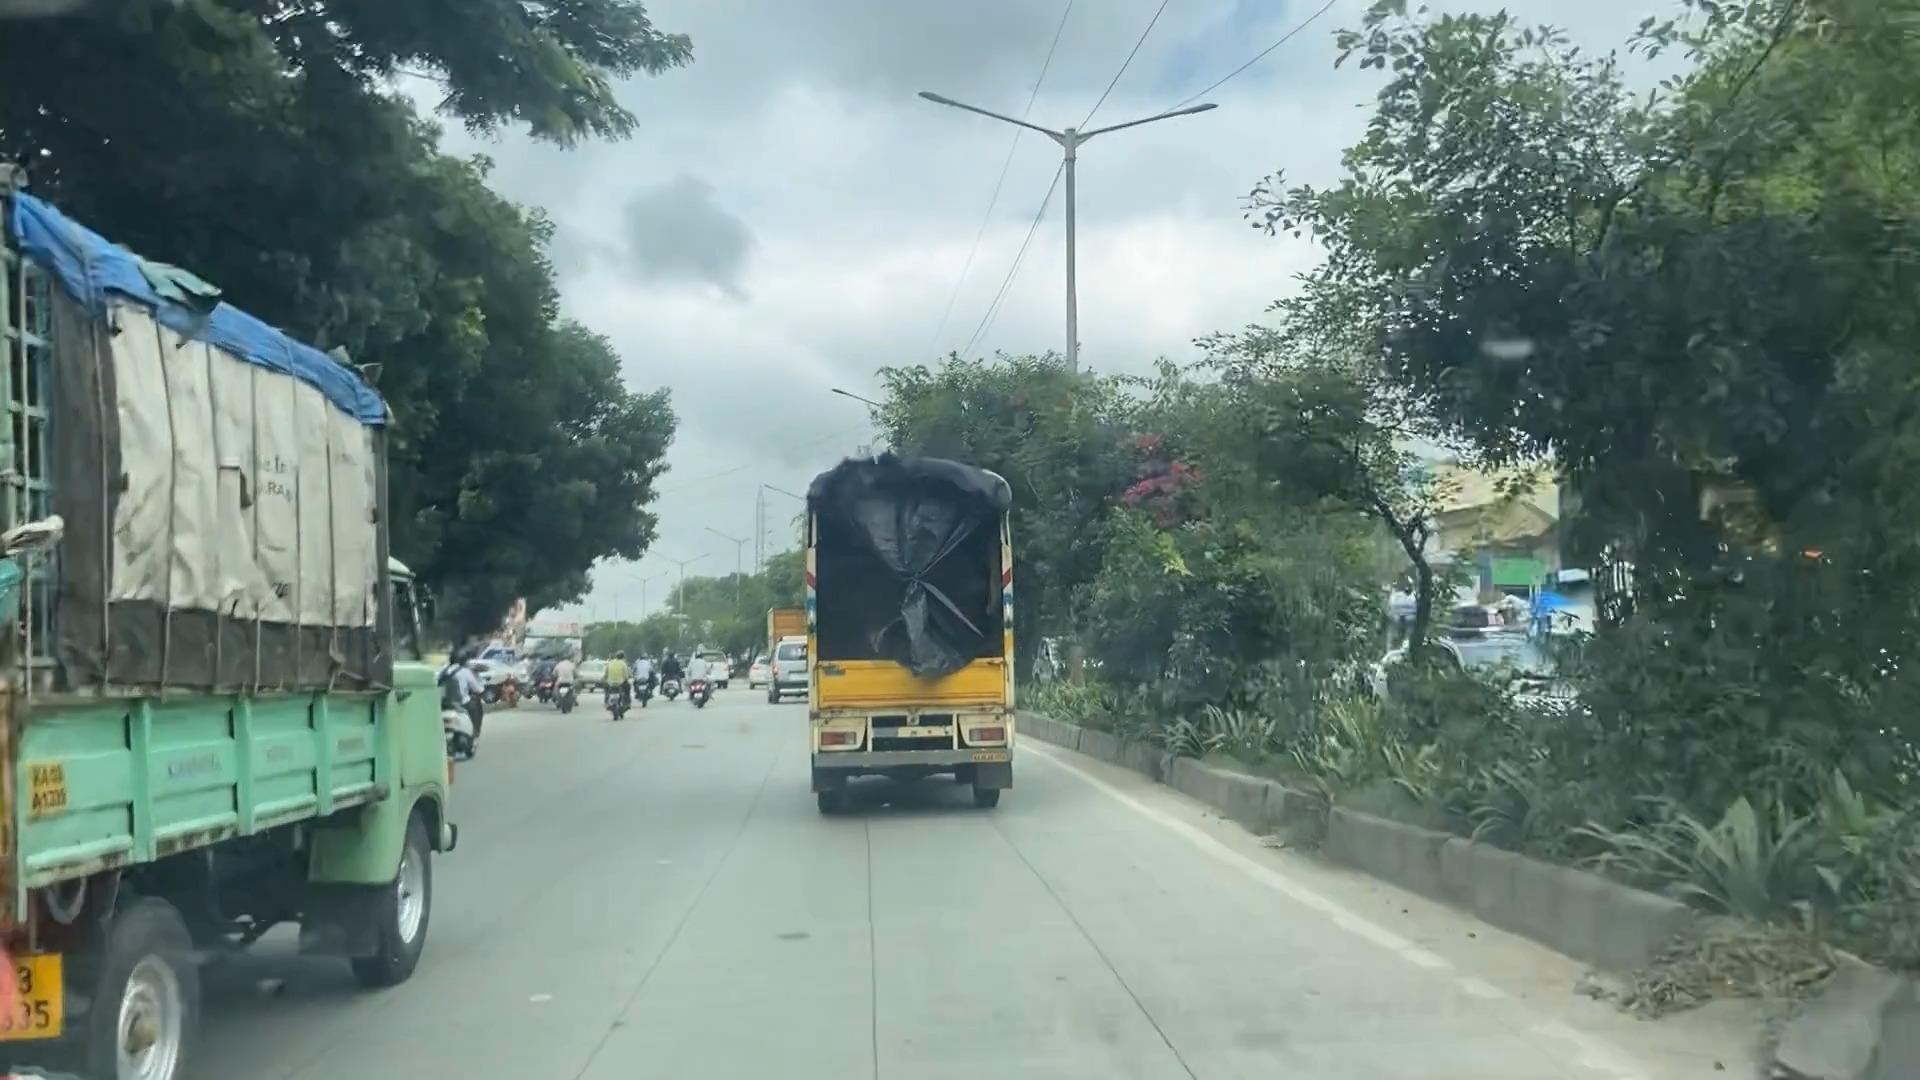HMV: (0, 148, 534, 1080), (773, 381, 1073, 893)
